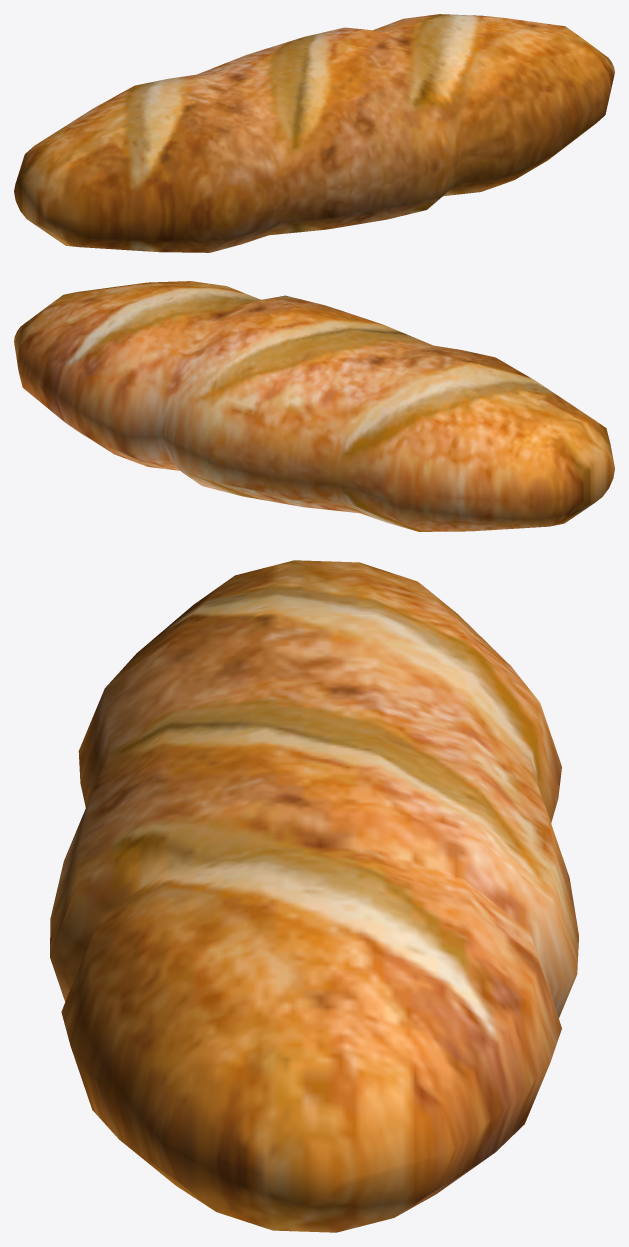
The model's file is bread.dae.
The picture shows the model from 3 angles, top to bottom: view 1: azimuth 30°, elevation 25°; view 2: azimuth 150°, elevation 25°; view 3: azimuth 270°, elevation 25°; orthographic projection. The views are drawn at different scales.
Visible parts, largest first — view 1: meshU3D; view 2: meshU3D; view 3: meshU3D.
Part boxes in pixels (bbox=[...]): meshU3D: bbox=[14, 14, 614, 252]; meshU3D: bbox=[14, 281, 614, 531]; meshU3D: bbox=[50, 560, 578, 1232].
Bounding box in the file's own units: 22.86 × 6.06 × 9.15.
Materials: 1 (1 with a texture image).
